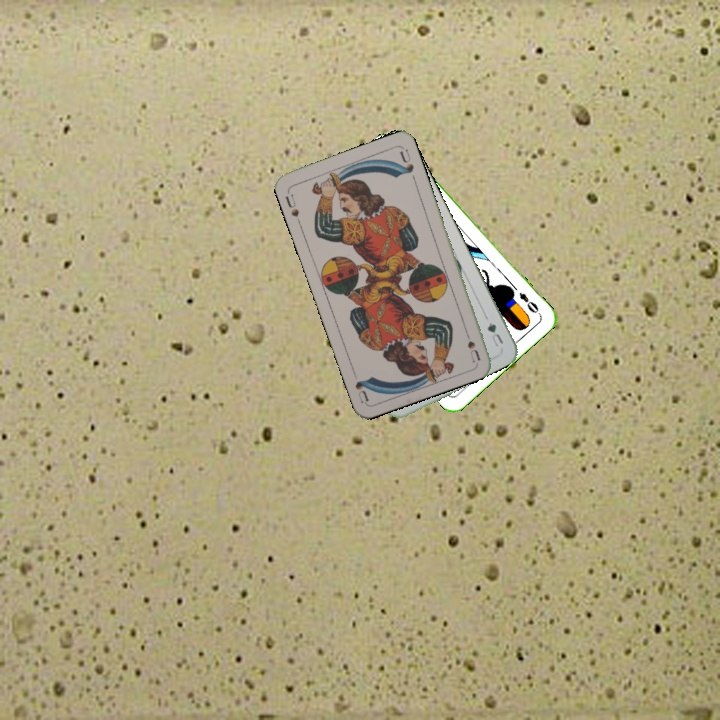EO: (515, 288, 543, 318)
GU: (483, 318, 506, 349)
SU: (460, 324, 483, 364), (281, 190, 303, 226)
